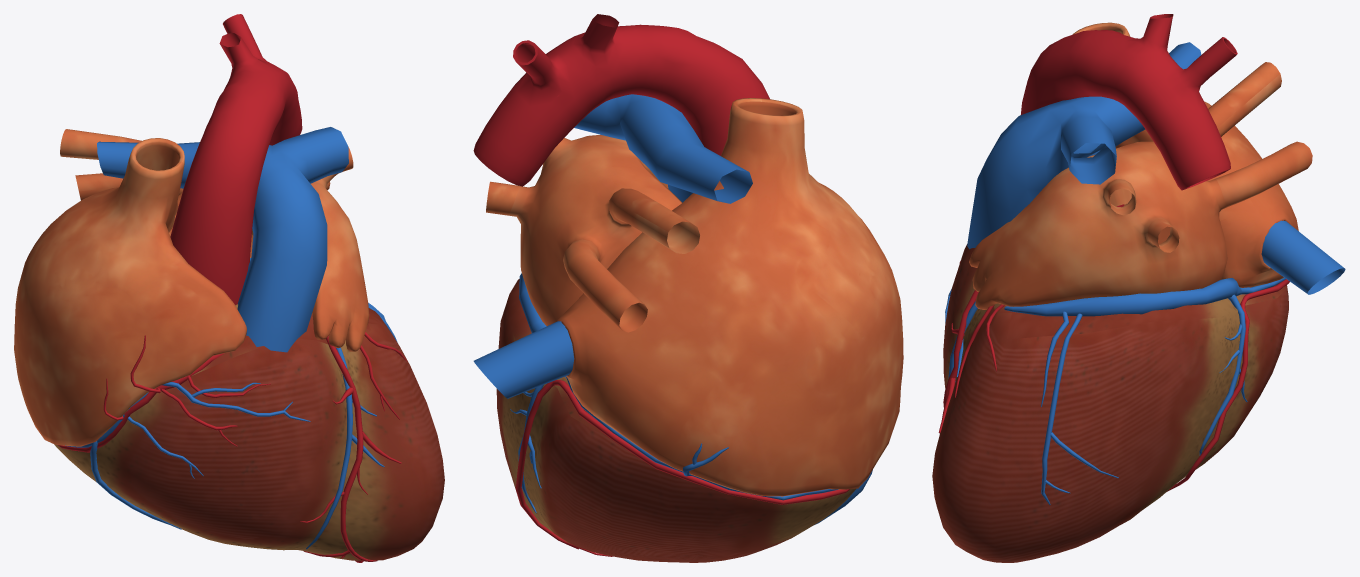
File: Heart.FBX
3 renders of one model, left to right at view 1: azimuth 30°, elevation 25°; view 2: azimuth 150°, elevation 25°; view 3: azimuth 270°, elevation 25°, orthographic. The views are drawn at different scales.
Parts seen in each view (by area): view 1: Circulatory_Heart, Heart; view 2: Circulatory_Heart, Heart; view 3: Circulatory_Heart, Heart.
Part boxes in pixels (x1,y1,x2,y2): Circulatory_Heart: [14, 129, 444, 560]; Heart: [58, 14, 407, 562]; Circulatory_Heart: [486, 98, 903, 562]; Heart: [473, 14, 872, 556]; Circulatory_Heart: [932, 22, 1312, 562]; Heart: [938, 14, 1345, 504].
Size of the model in its own units: 9.99 by 13.52 by 9.96.
4 materials, 2 textured.
